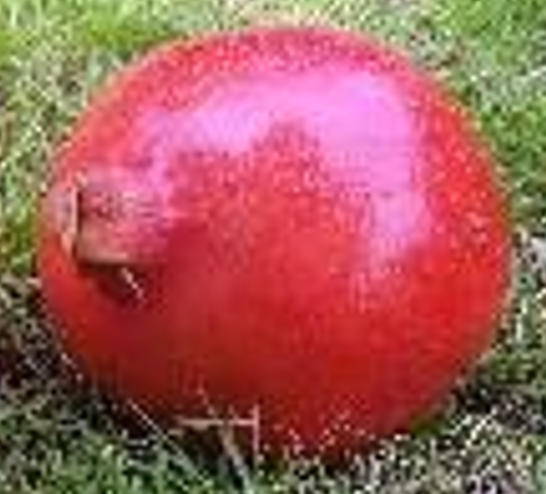pomegranate_A: (34, 24, 516, 466)
